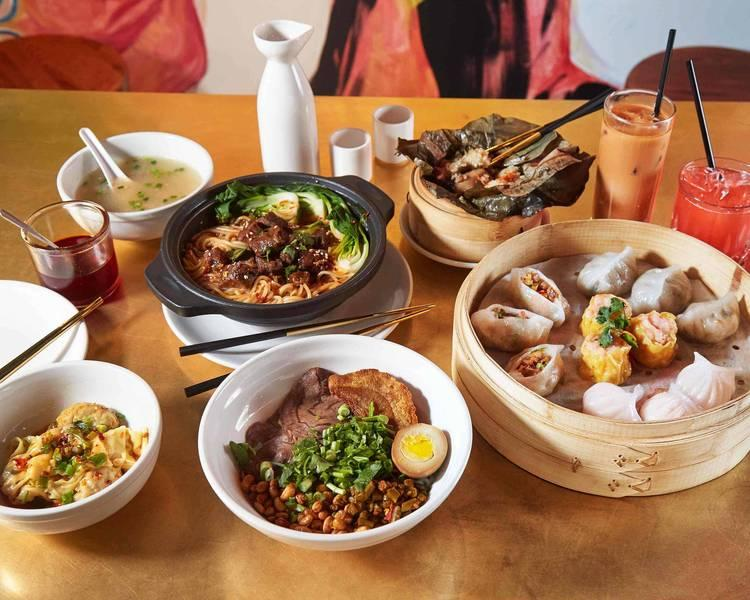Braised Crucian Carp: (451, 218, 748, 491), (196, 333, 470, 547), (143, 171, 393, 323), (1, 361, 162, 531), (405, 114, 587, 261), (55, 130, 211, 241)
